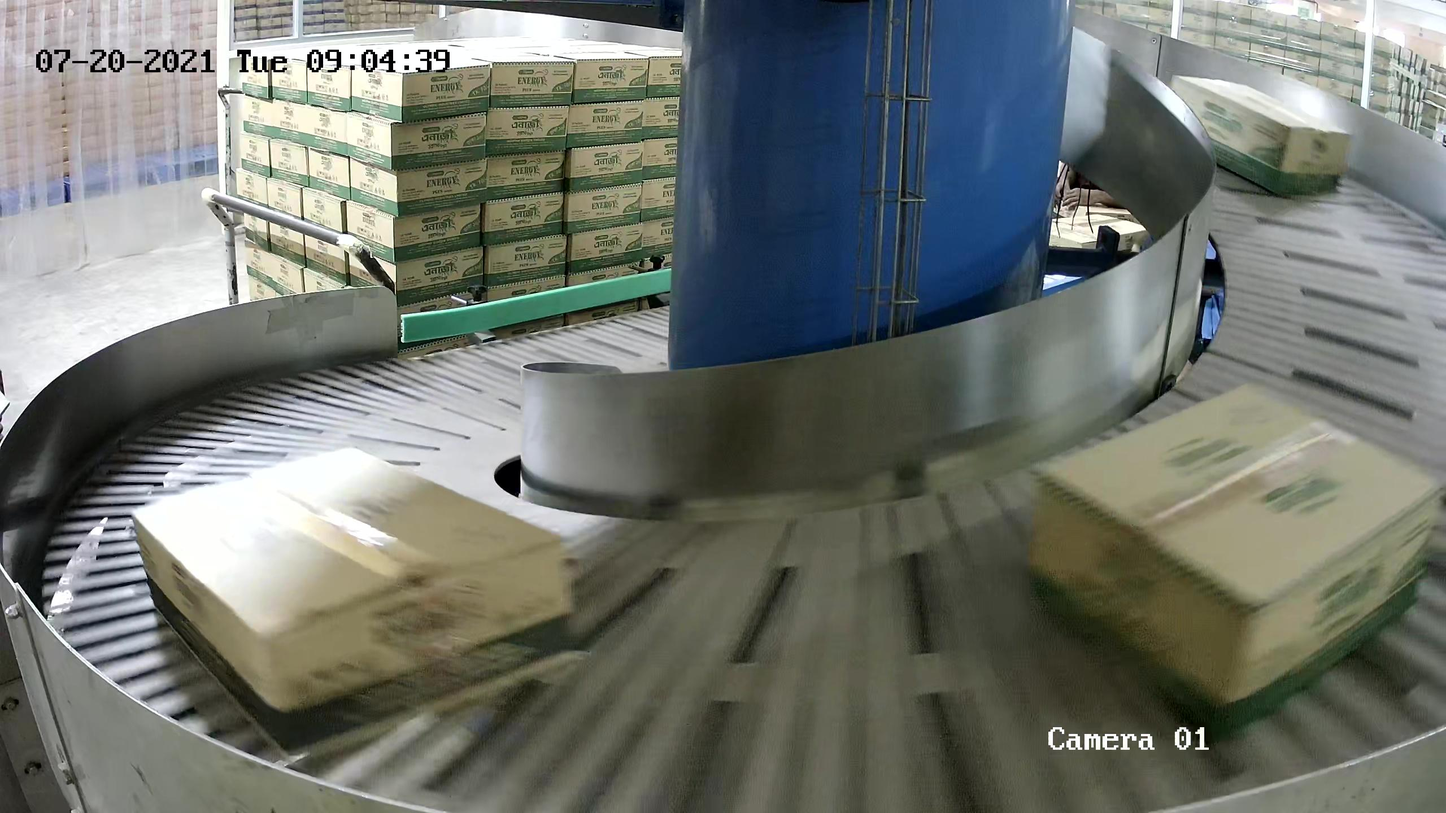Box: (1025, 380, 1446, 747), (135, 446, 593, 762), (1165, 73, 1354, 202)
